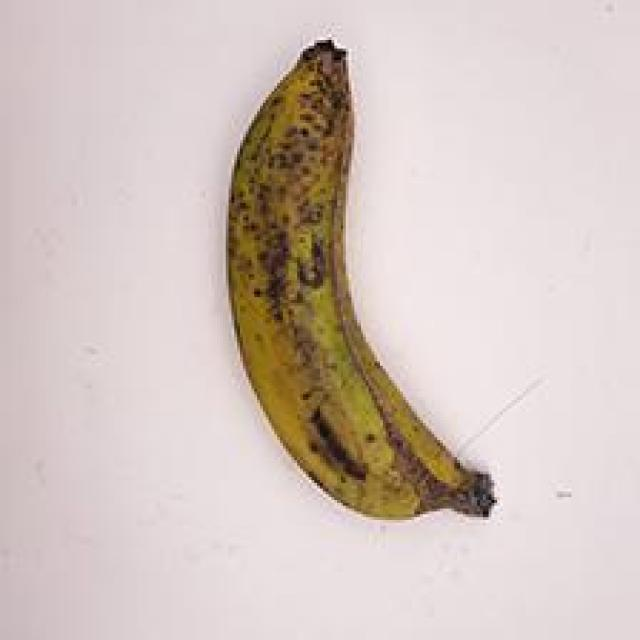Overripe: (166, 0, 532, 557)
